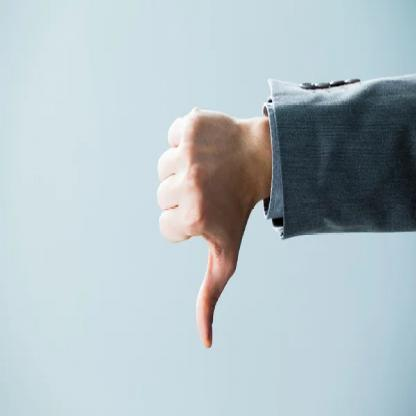thumb_down: (152, 98, 270, 356)
